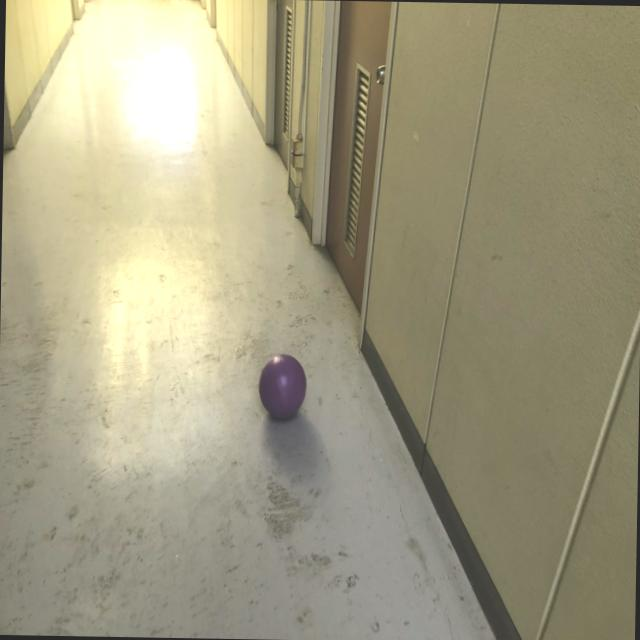purple_ball: (257, 353, 307, 418)
